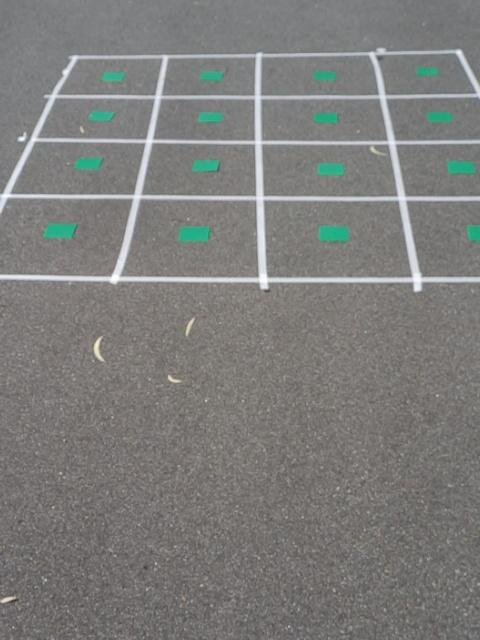weed: (173, 223, 213, 246), (43, 221, 78, 242), (443, 157, 476, 176), (319, 224, 351, 243), (314, 160, 347, 178), (72, 154, 101, 172), (191, 157, 220, 174), (312, 110, 340, 126), (197, 109, 226, 124), (424, 109, 456, 122), (100, 69, 124, 84), (414, 64, 438, 79), (467, 221, 480, 247), (312, 70, 338, 82), (88, 110, 112, 122), (200, 68, 223, 80)
